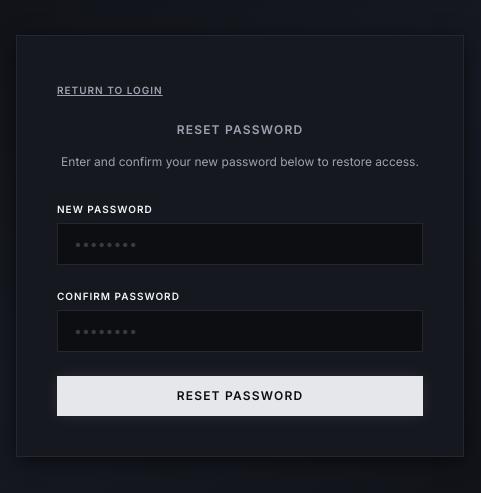
Scenario: ChangePassword Page › should show generic error on network failure
Step 1. Type "newpass123" into the password field with placeholder "••••••••" → {"x": 240, "y": 244}, box [57, 223, 423, 265]
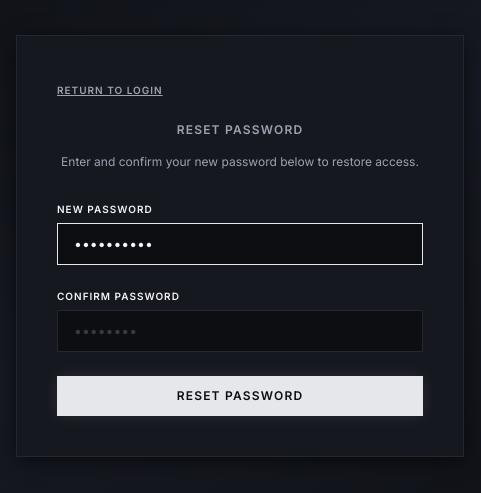
Step 2. Type "newpass123" into the password field with placeholder "••••••••" → {"x": 240, "y": 331}, box [57, 310, 423, 352]
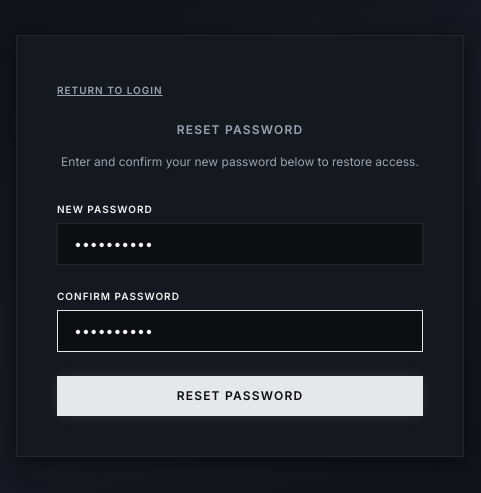
Step 3. Click the button "Reset Password" → {"x": 240, "y": 396}, box [57, 376, 423, 416]
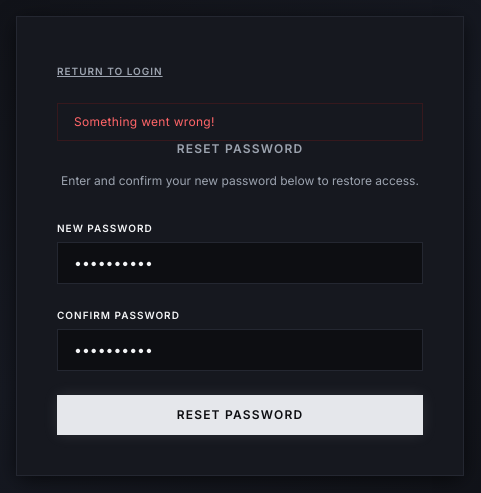
Check: the text "Something went wrong!" is shown, box [57, 103, 423, 141]
